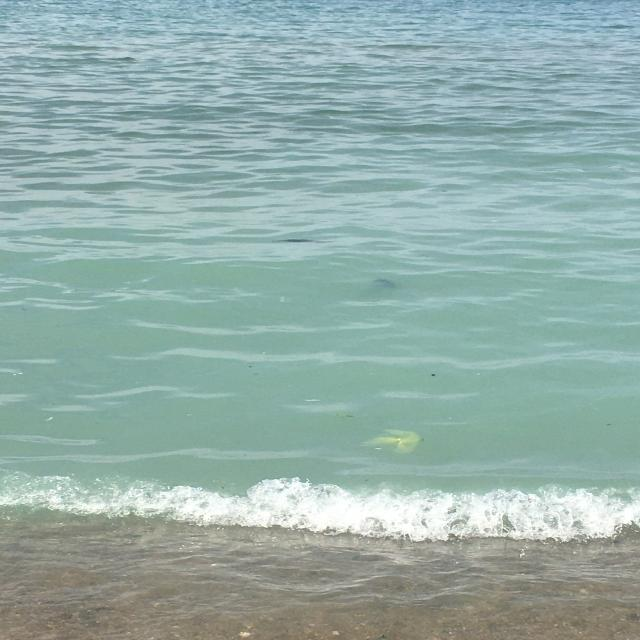Plastic bag: (358, 427, 424, 457), (352, 276, 401, 304), (271, 234, 339, 249)
